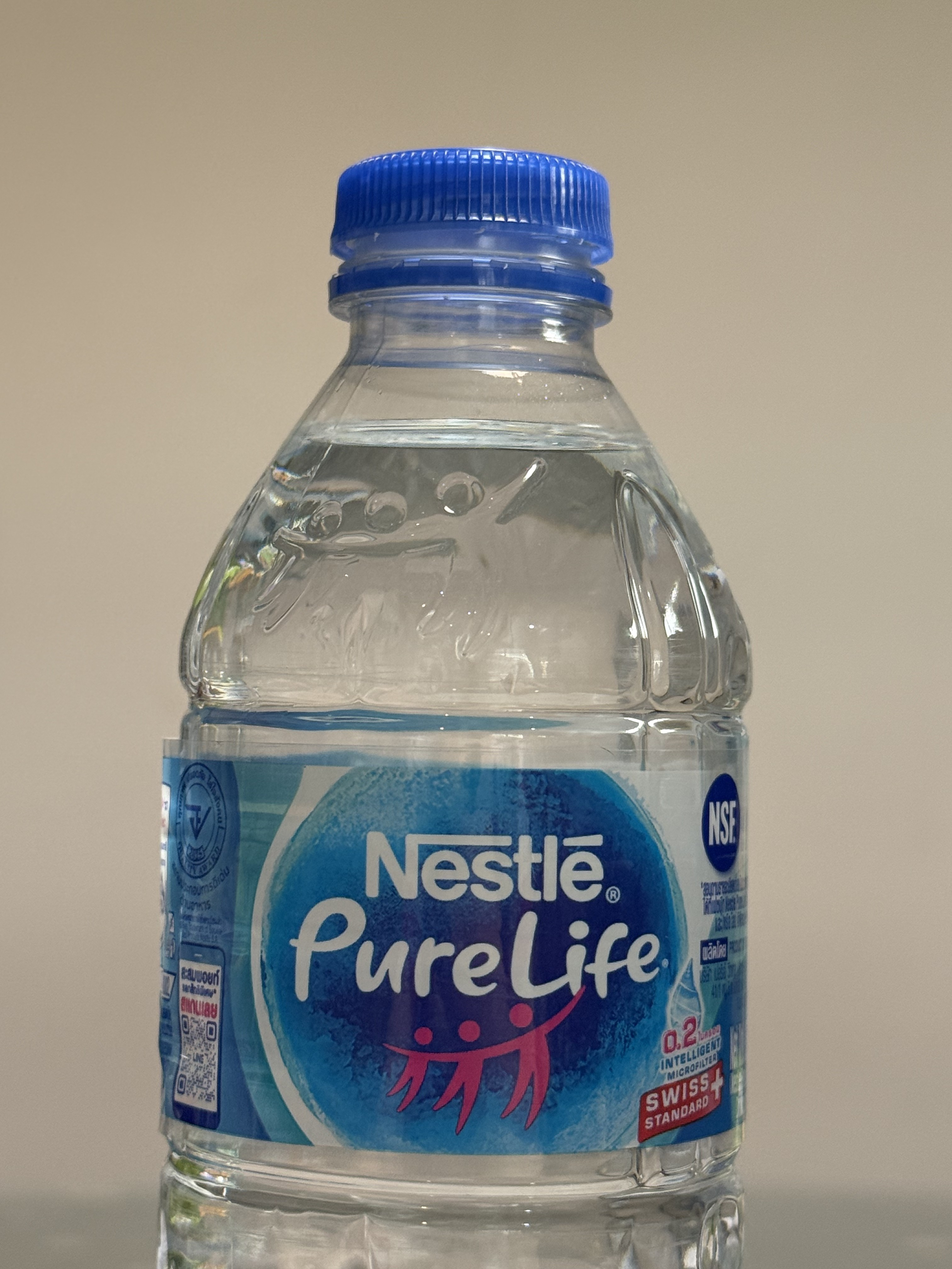half_cap: (319, 139, 620, 322)
